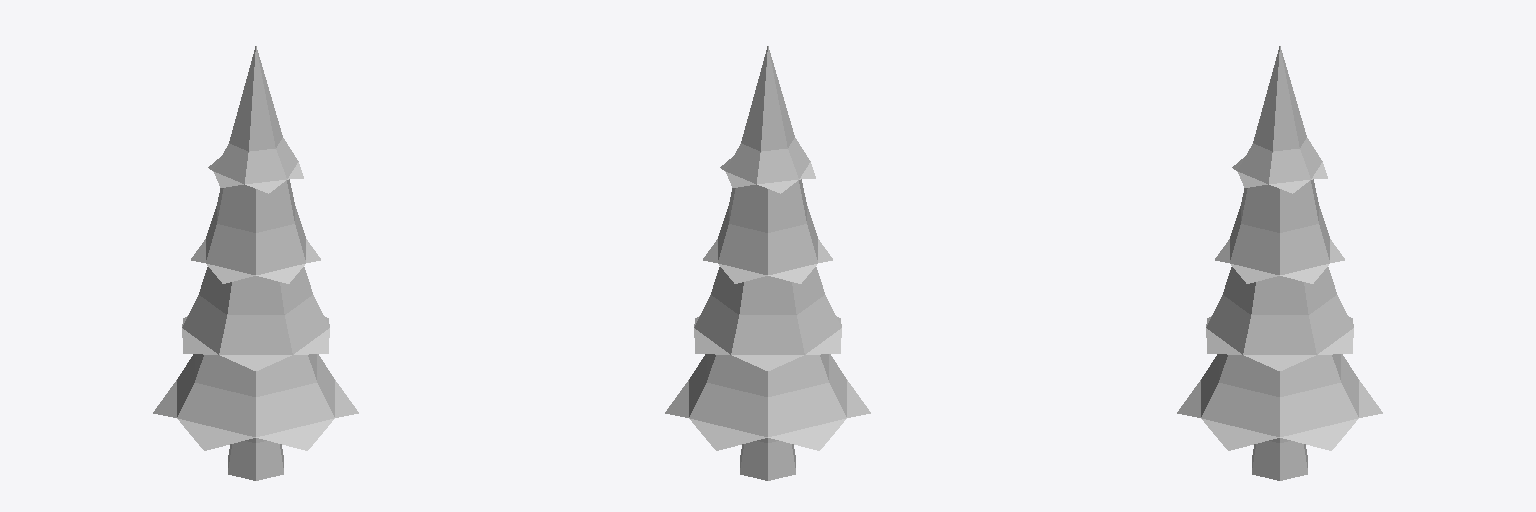
File: Pine_2.obj
3 views of the same model, side by side, from view 1: azimuth 30°, elevation 25°; view 2: azimuth 150°, elevation 25°; view 3: azimuth 270°, elevation 25° (orthographic).
Visible parts, largest first — view 1: Pine_2; view 2: Pine_2; view 3: Pine_2.
Part boxes in pixels (x1,y1,x2,y2): Pine_2: (153, 46, 358, 480); Pine_2: (665, 46, 870, 480); Pine_2: (1177, 46, 1382, 480).
Size of the model in its own units: 1.18 by 3.01 by 1.33.